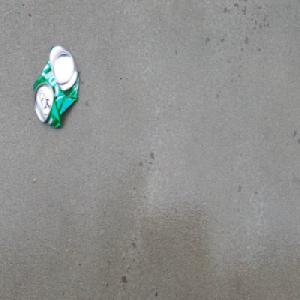SodaCan: (31, 42, 80, 130)
